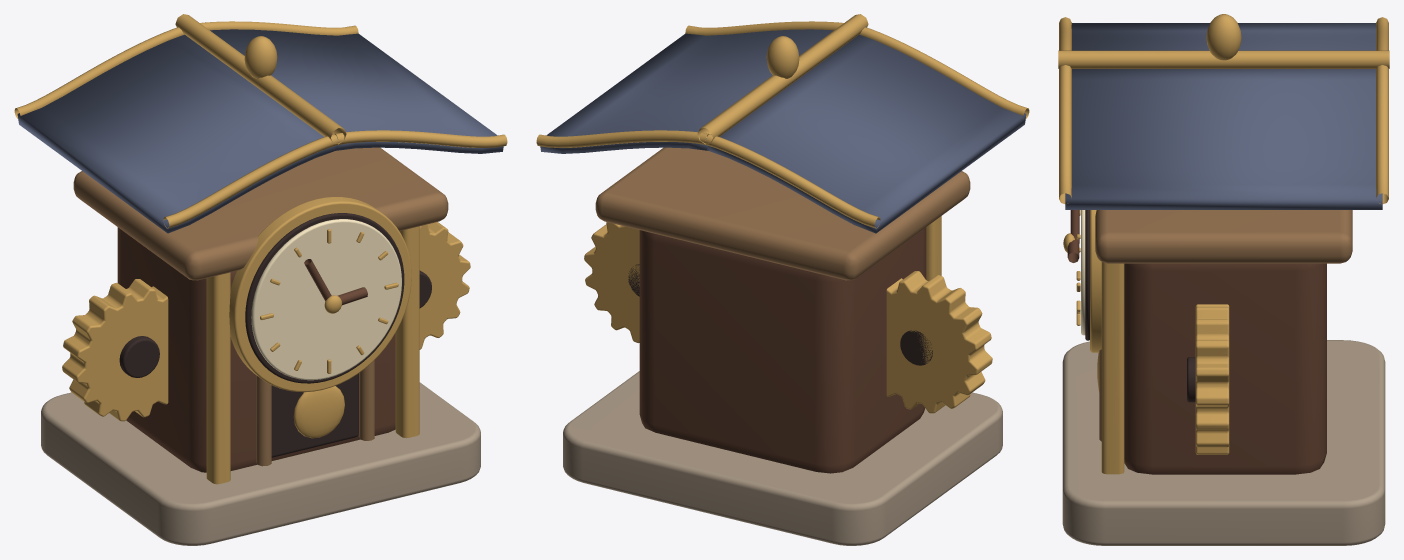
File: clock_pavilion_crafted.glb
3 renders of one model, left to right at view 1: azimuth 30°, elevation 25°; view 2: azimuth 150°, elevation 25°; view 3: azimuth 270°, elevation 25°, orthographic. The views are drawn at different scales.
Visible parts, largest first — view 1: Twilight enamel, Antique brass, Rounded limestone footing, Polished worn timber edge, Ivory clock enamel, Oiled chestnut joinery, Deep joinery recess; view 2: Oiled chestnut joinery, Twilight enamel, Rounded limestone footing, Antique brass, Polished worn timber edge, Deep joinery recess; view 3: Twilight enamel, Oiled chestnut joinery, Rounded limestone footing, Antique brass, Polished worn timber edge, Deep joinery recess, Ivory clock enamel.
Part boxes in pixels (x1,y1,x2,y2): Twilight enamel: [17, 29, 503, 233]; Antique brass: [14, 14, 507, 484]; Rounded limestone footing: [41, 382, 480, 545]; Polished worn timber edge: [73, 147, 448, 466]; Ivory clock enamel: [251, 219, 401, 380]; Oiled chestnut joinery: [117, 227, 395, 472]; Deep joinery recess: [119, 213, 431, 457]; Oiled chestnut joinery: [639, 227, 926, 473]; Twilight enamel: [540, 29, 1026, 233]; Rounded limestone footing: [563, 371, 1002, 545]; Antique brass: [536, 14, 1029, 413]; Polished worn timber edge: [595, 147, 970, 280]; Deep joinery recess: [628, 264, 932, 365]; Twilight enamel: [1065, 23, 1382, 209]; Oiled chestnut joinery: [1067, 210, 1326, 474]; Rounded limestone footing: [1062, 340, 1385, 545]; Antique brass: [1058, 14, 1389, 474]; Polished worn timber edge: [1095, 210, 1352, 441]; Deep joinery recess: [1085, 210, 1195, 402]; Ivory clock enamel: [1081, 210, 1085, 335].
Bounding box in the file's own units: 2.75 × 2.82 × 1.88.
